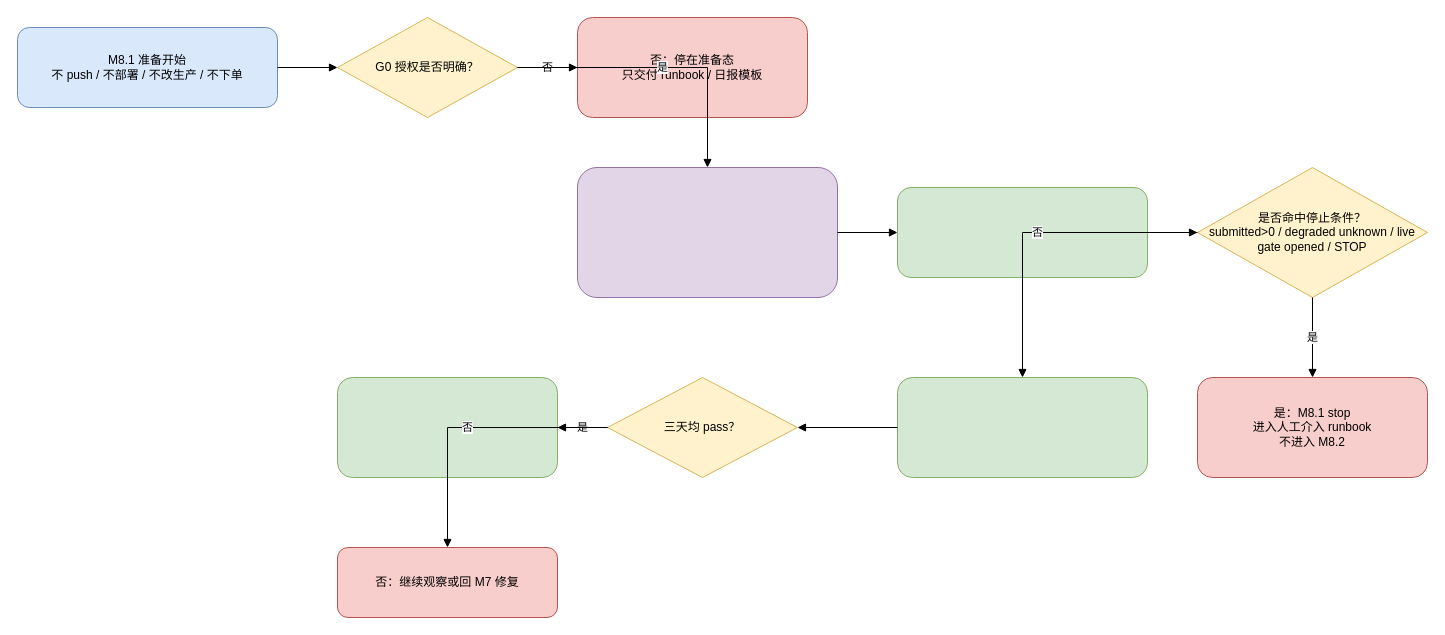
Image size: 1445x635. Some labels were removed from this diagram. The shapes that lost their labels are listed below. From the top down, each one's box as (x1, y1, x2, y2) in pixels, then its label:
(576, 166, 838, 298): 是：只开影子配置 supervisor=true shadowOnly=true autoSend=false dryRun=true live=false
(896, 186, 1148, 278): 观察 ShadowReport RunCode / backlog / pending / alert
(336, 376, 558, 478): 是：M8.1 可标 done 再讨论 M8.2 仍不代表真实下单授权
(896, 376, 1148, 478): 否：填写 Day 1-3 日报 核对交易所真相 + 本地账本
